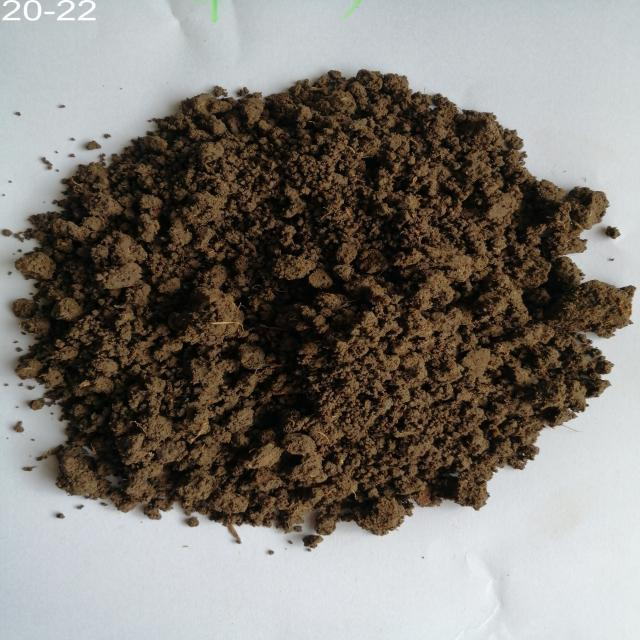soil: (133, 157, 496, 458)
